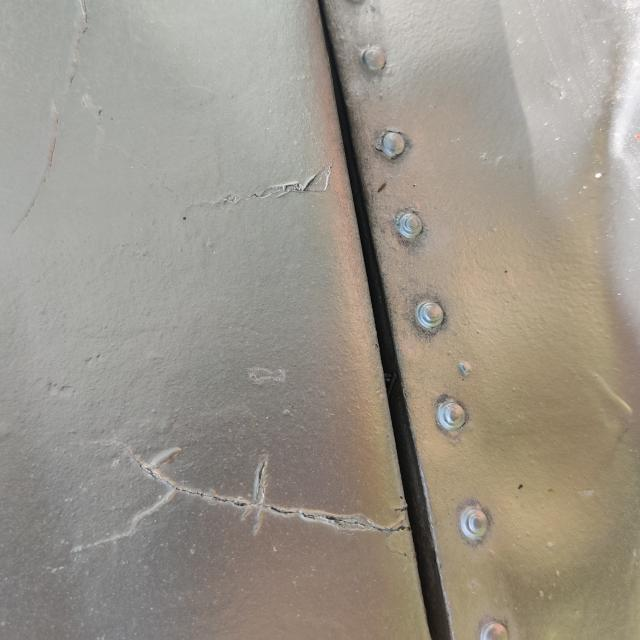Crack: (70, 448, 408, 554)
